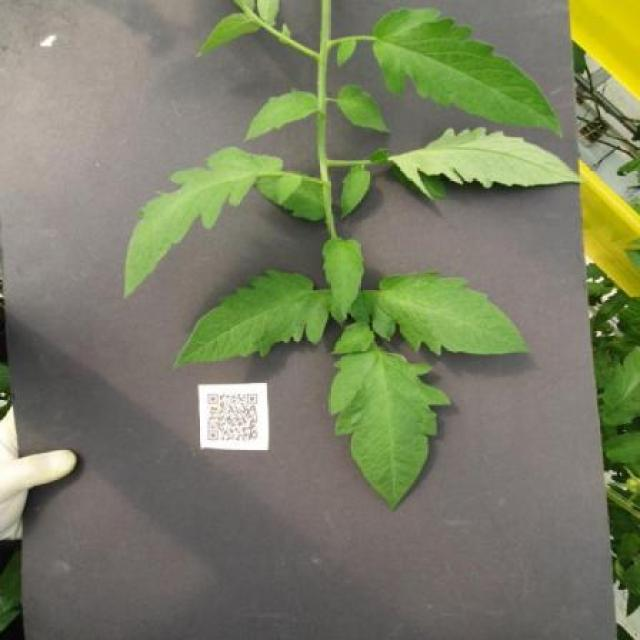Healthy: (125, 145, 302, 299), (372, 6, 567, 140), (328, 344, 451, 514), (348, 270, 535, 360), (172, 269, 329, 371), (243, 86, 318, 144), (321, 235, 365, 319), (339, 85, 390, 134), (338, 163, 372, 220), (331, 321, 375, 355)
